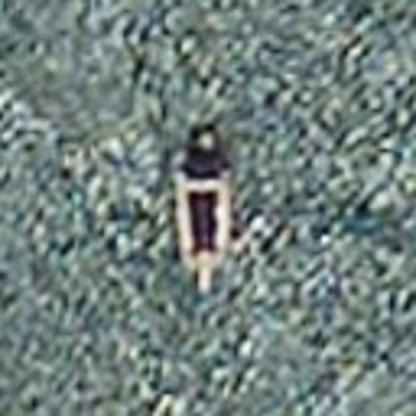ship: (160, 118, 239, 299)
